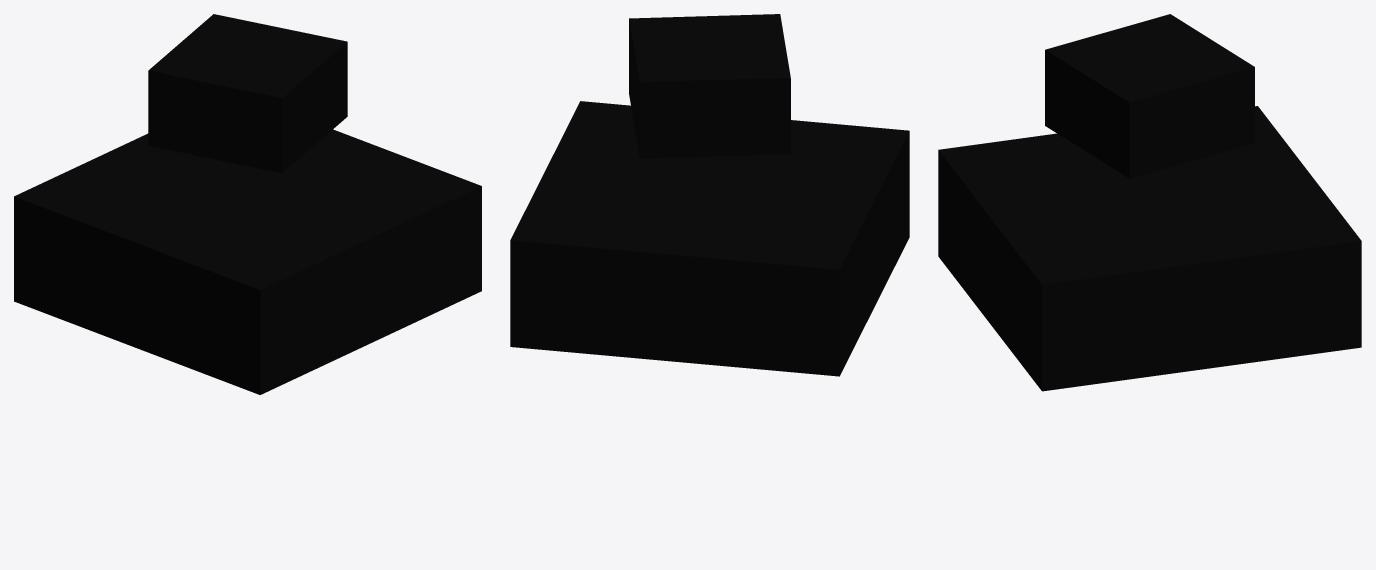
The model's file is jungle_tree.gltf.
3 renders of one model, left to right at view 1: azimuth 30°, elevation 25°; view 2: azimuth 150°, elevation 25°; view 3: azimuth 270°, elevation 25°, orthographic.
Visible parts, largest first — view 1: canopy_lo, canopy_top; view 2: canopy_lo, canopy_top; view 3: canopy_lo, canopy_top.
Boxes of the visible parts, left/top/right/bottom form: canopy_lo: left=14, top=129, right=481, bottom=394; canopy_top: left=148, top=14, right=347, bottom=173; canopy_lo: left=510, top=101, right=909, bottom=376; canopy_top: left=629, top=14, right=790, bottom=158; canopy_lo: left=938, top=106, right=1361, bottom=391; canopy_top: left=1045, top=14, right=1254, bottom=178.
Size of the model in its own units: 1.58 by 1.94 by 1.58.
3 materials, 3 textured.
